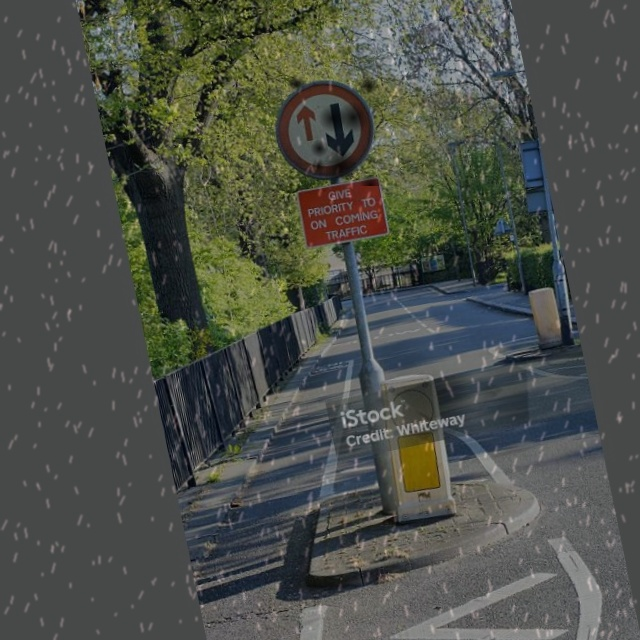Priority_for_Oncoming_Traffic: (271, 74, 382, 186)
